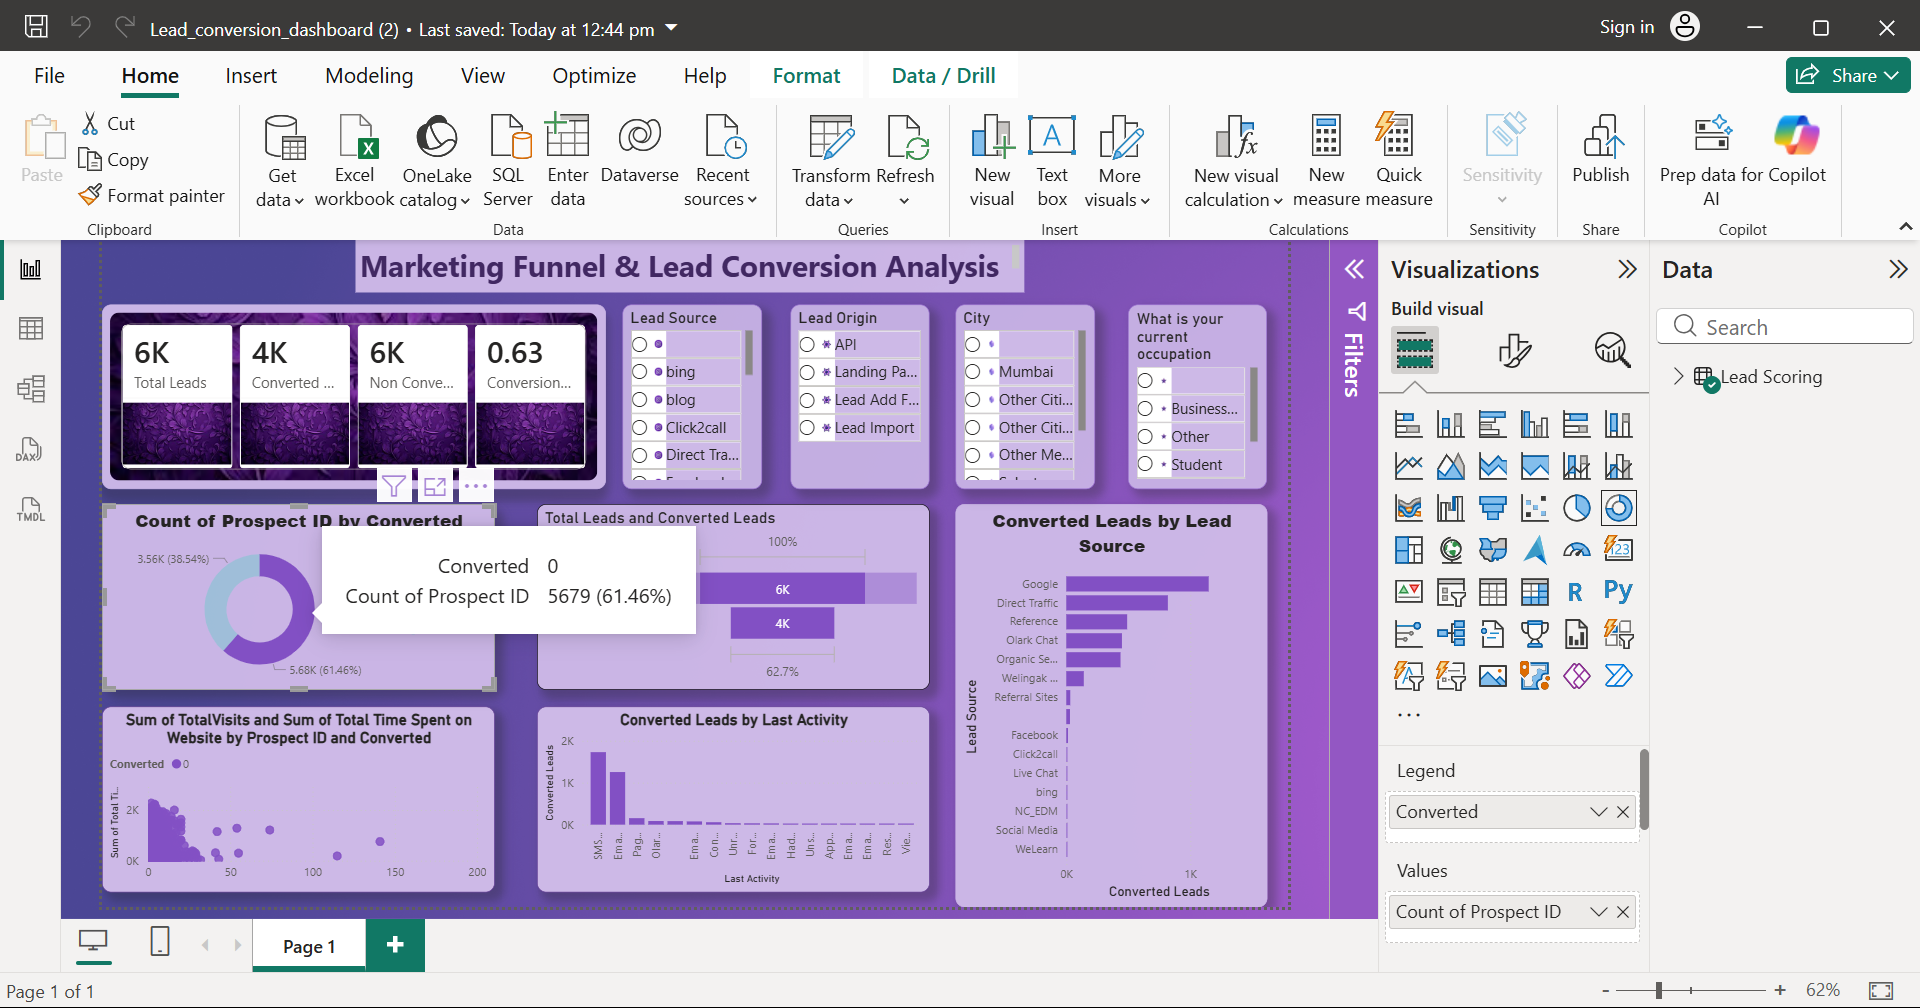

This screenshot's page, from the dashboard's own definition file:
{"tool":"powerbi","page":{"name":"Page 1","canvas":[1280,720],"ordinal":0},"visuals":[{"type":"cardVisual","fields":{"Data":["Lead Scoring.Total Leads","Lead Scoring.Converted Leads","Lead Scoring.Non Converted Leads","Lead Scoring.Conversion Rate"]},"box":[18.9,69.9,667.1,251.3],"z":0},{"type":"funnel","fields":{"Y":["Lead Scoring.Total Leads","Lead Scoring.Converted Leads"]},"box":[353.4,355.3,359.1,177.6],"z":1000},{"type":"barChart","fields":{"Y":["Lead Scoring.Converted Leads"],"Category":["Lead Scoring.Lead Source"]},"box":[727.6,69.9,536.7,463],"z":2000},{"type":"donutChart","fields":{"Category":["Lead Scoring.Converted"],"Y":["CountNonNull(Lead Scoring.Prospect ID)"]},"box":[18.9,355.3,321.3,353.4],"z":3000},{"type":"listSlicer","fields":{"Values":["Lead Scoring.Lead Source"]},"box":[353.4,555.6,238.1,153.1],"z":4000},{"type":"listSlicer","fields":{"Values":["Lead Scoring.Lead Origin"]},"box":[608.5,555.6,238.1,153.1],"z":5000},{"type":"listSlicer","fields":{"Values":["Lead Scoring.City"]},"box":[865.5,555.6,189,153.1],"z":6000},{"type":"listSlicer","fields":{"Values":["Lead Scoring.What is your current occupation"]},"box":[1075.3,555.6,189,153.1],"z":7000},{"type":"textbox","box":[274,0,721.9,56.7],"z":8000}]}

Visuals, with their boxes on the page's 1280x720 design canvas (x1, y1, x2, y2). These are canvas units, not pixel positions in the 1920x1008 screenshot, which may show the page scaled, cropped or inside an application window:
cardVisual - Lead Scoring.Total Leads x Lead Scoring.Converted Leads: {"x1": 19, "y1": 70, "x2": 686, "y2": 321}
funnel - Lead Scoring.Total Leads x Lead Scoring.Converted Leads: {"x1": 353, "y1": 355, "x2": 712, "y2": 533}
barChart - Lead Scoring.Converted Leads x Lead Scoring.Lead Source: {"x1": 728, "y1": 70, "x2": 1264, "y2": 533}
donutChart - Lead Scoring.Converted x CountNonNull(Lead Scoring.Prospect ID): {"x1": 19, "y1": 355, "x2": 340, "y2": 709}
listSlicer - Lead Scoring.Lead Source: {"x1": 353, "y1": 556, "x2": 592, "y2": 709}
listSlicer - Lead Scoring.Lead Origin: {"x1": 608, "y1": 556, "x2": 847, "y2": 709}
listSlicer - Lead Scoring.City: {"x1": 866, "y1": 556, "x2": 1054, "y2": 709}
listSlicer - Lead Scoring.What is your current occupation: {"x1": 1075, "y1": 556, "x2": 1264, "y2": 709}
textbox: {"x1": 274, "y1": 0, "x2": 996, "y2": 57}
